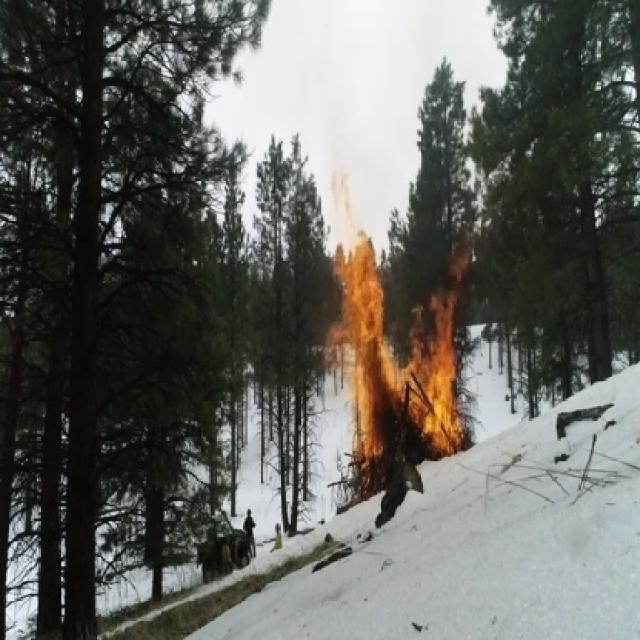Fire: (335, 234, 471, 471)
